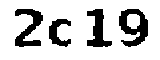1: (85, 5, 113, 49)
2: (10, 5, 46, 51)
9: (119, 6, 151, 53)
c: (47, 16, 75, 48)
